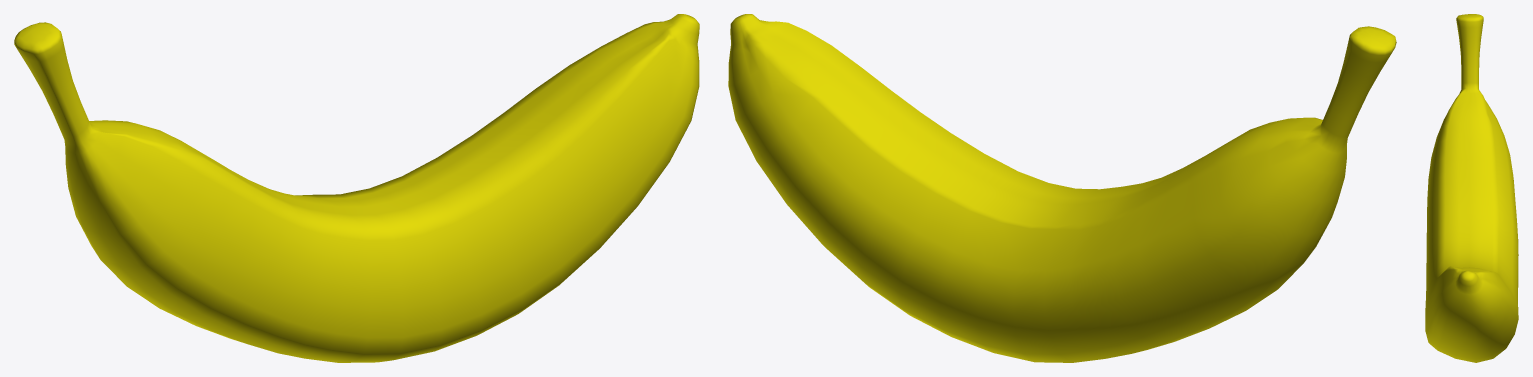
Rendered from Banana_fbx.fbx.
The picture shows the model from 3 angles, left to right: view 1: azimuth 30°, elevation 25°; view 2: azimuth 150°, elevation 25°; view 3: azimuth 270°, elevation 25°; orthographic projection. The views are drawn at different scales.
Visible parts, largest first — view 1: banana:bananabanana1; view 2: banana:bananabanana1; view 3: banana:bananabanana1.
Boxes of the visible parts, box(x1,y1,x2,y2) form: banana:bananabanana1: box(14, 14, 699, 362); banana:bananabanana1: box(728, 14, 1396, 362); banana:bananabanana1: box(1425, 14, 1518, 362).
Bounding box in the file's own units: 10.95 × 6.33 × 2.3.
